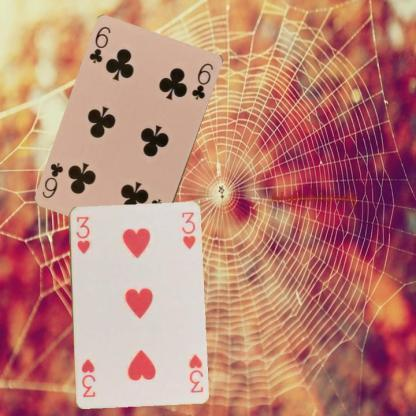3h: (186, 351, 204, 394), (73, 214, 91, 255)
6c: (86, 23, 112, 66)
